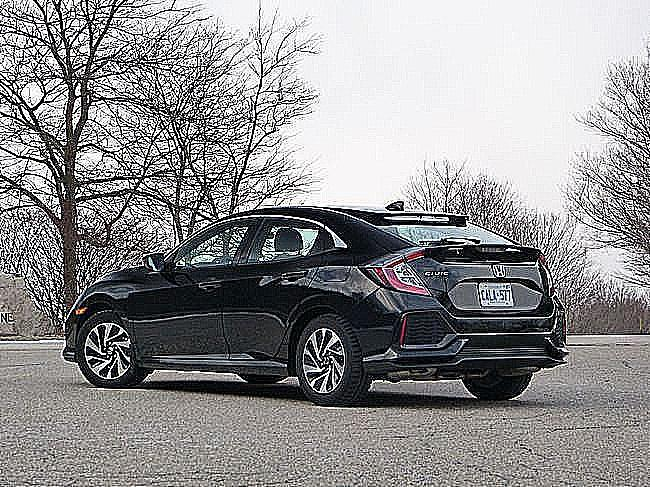Car boot: (395, 243, 557, 321)
Fender - -F-L-: (88, 266, 139, 371)
Fender - -R-L-: (284, 233, 381, 375)
Passenger-s door - -F-L-: (139, 212, 237, 363)
Passenger-s door - -R-L-: (226, 211, 325, 368)
Rear bumper: (357, 300, 577, 381), (61, 305, 88, 366)
Rear light - -L-: (355, 243, 437, 299)
Side bumper - -L-: (130, 354, 295, 379)
Side mirror - -L-: (135, 245, 169, 278)
